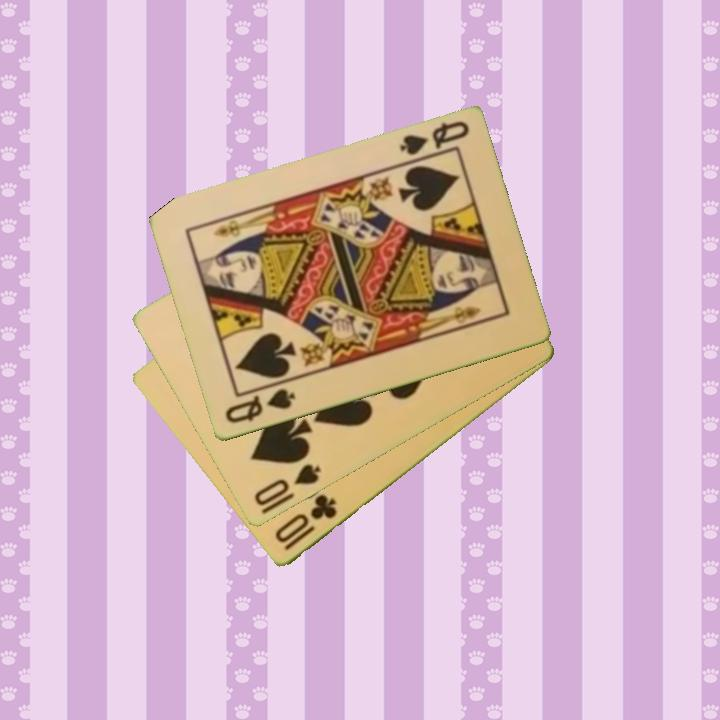10c: (271, 491, 340, 554)
10s: (250, 460, 324, 510)
Qs: (221, 385, 298, 427), (396, 117, 472, 159)
